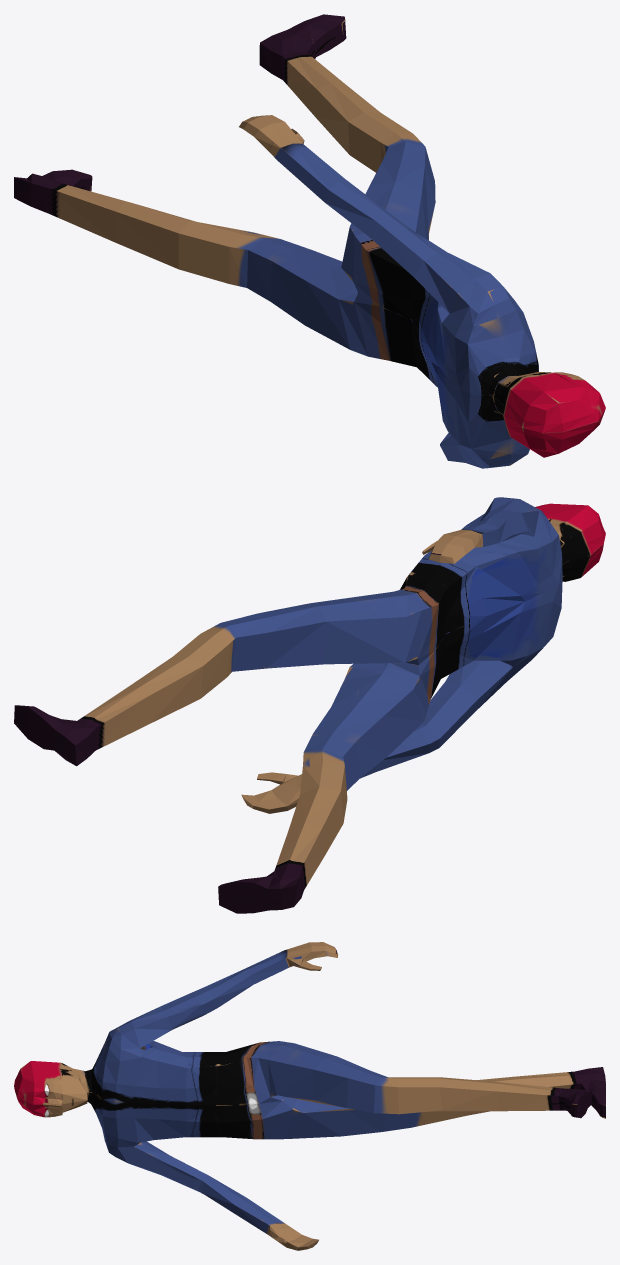
File: mirrorman_000038.obj
3 views of the same model, one above another, from view 1: azimuth 30°, elevation 25°; view 2: azimuth 150°, elevation 25°; view 3: azimuth 270°, elevation 25° (orthographic). The views are drawn at different scales.
Visible parts, largest first — view 1: mirrorman_Cube.001_Material.001; view 2: mirrorman_Cube.001_Material.001; view 3: mirrorman_Cube.001_Material.001.
Boxes of the visible parts, x1,y1,x2,y2 form: mirrorman_Cube.001_Material.001: (14,14,605,468); mirrorman_Cube.001_Material.001: (14,497,605,913); mirrorman_Cube.001_Material.001: (14,942,605,1250).
Size of the model in its own units: 0.7766 by 0.8058 by 1.86.
